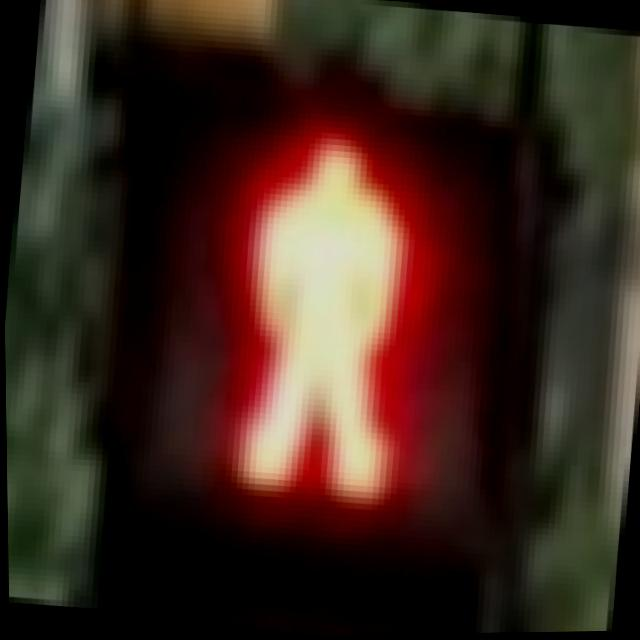red_light: (124, 87, 510, 563)
